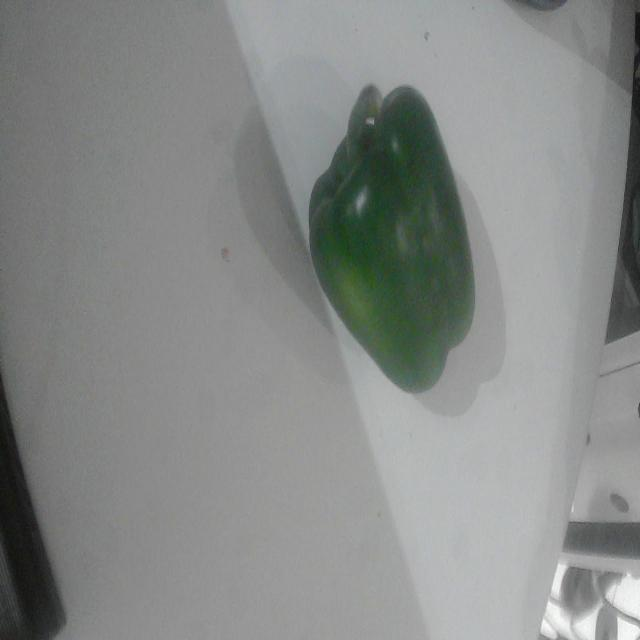Bell Pepper: (310, 85, 474, 393)
